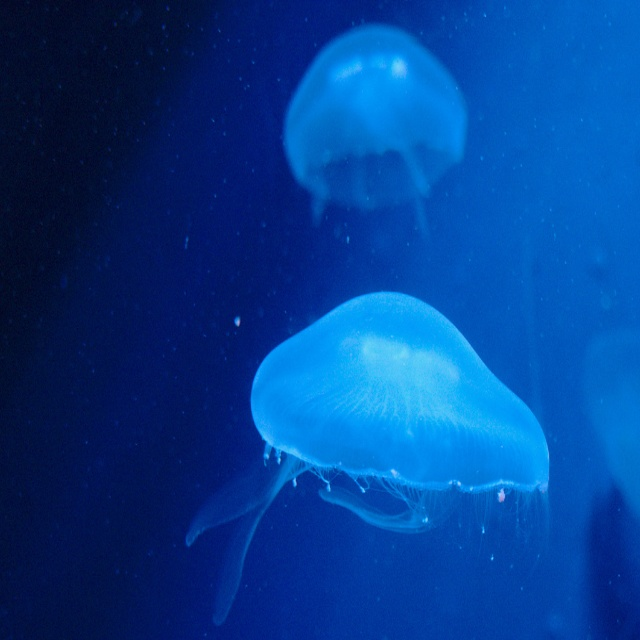Jellyfish: (183, 289, 552, 628), (282, 28, 486, 252)
